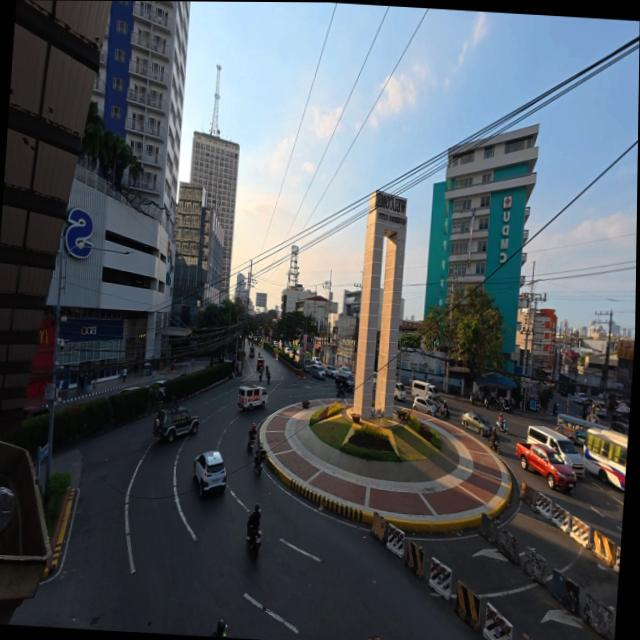Jeepneys: (248, 346, 254, 358)
bus: (583, 428, 627, 489)
car: (153, 406, 198, 442), (193, 451, 225, 495), (460, 411, 492, 436), (412, 396, 435, 415), (22, 405, 48, 419), (334, 374, 353, 392), (425, 393, 442, 408), (149, 380, 165, 395), (310, 363, 325, 379), (610, 421, 628, 434), (569, 393, 588, 404), (118, 386, 139, 394), (325, 365, 337, 378), (338, 367, 351, 377), (256, 355, 264, 371), (311, 357, 322, 366), (372, 373, 376, 388), (286, 351, 293, 358), (272, 341, 278, 347)
motorcycle: (247, 527, 260, 558), (488, 429, 499, 454), (483, 394, 499, 408), (254, 454, 264, 476), (495, 420, 508, 434), (336, 385, 347, 399), (500, 399, 511, 412), (438, 406, 449, 418), (246, 437, 254, 452), (469, 392, 479, 404), (552, 403, 557, 416), (258, 372, 261, 381), (266, 375, 269, 383)
trucks: (516, 443, 575, 490), (303, 358, 311, 372)
vans: (527, 426, 583, 476), (237, 386, 266, 410), (410, 380, 436, 397), (591, 401, 608, 418), (393, 382, 405, 400)
